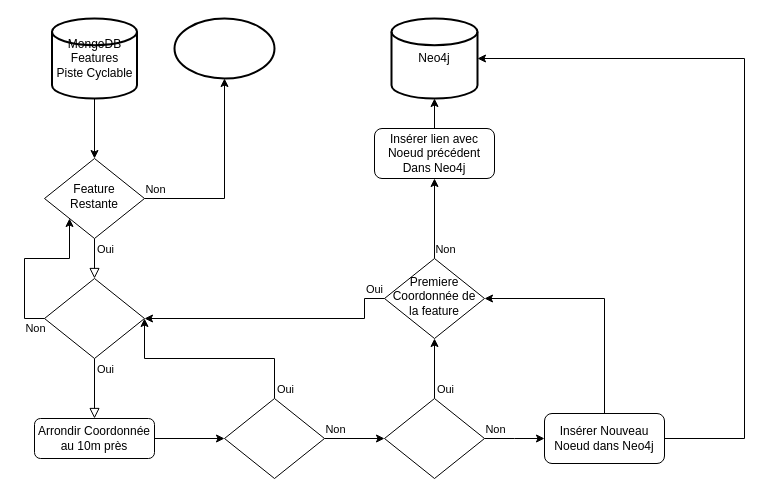
This 770x496 diagram has some shape labels left out. The shapes that lost their labels are listed below. From the top down, each one's box as (x1, y1, x2, y2) in pixels, then its label:
(173, 17, 275, 79): Fin
(44, 278, 144, 358): Coordonnées Restantes
(224, 398, 324, 478): Coordonnée Semblable Précédente
(384, 398, 484, 478): Coordonnée Existe dans BD Neo4j
